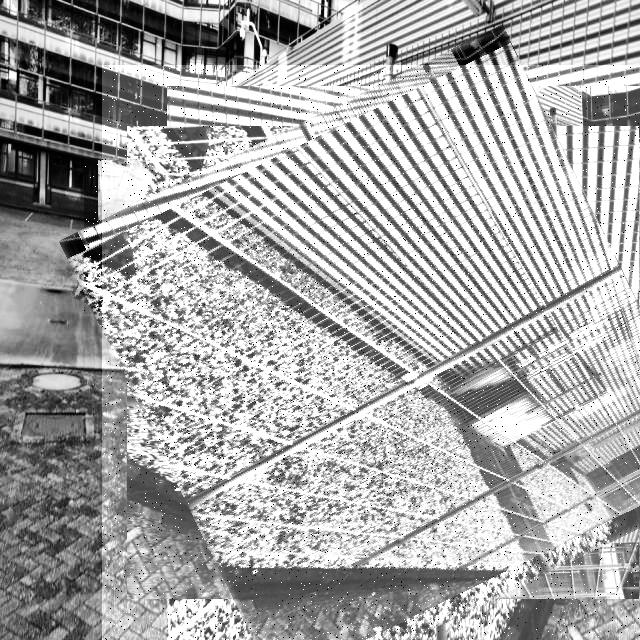fences: (102, 65, 640, 640), (84, 158, 159, 314)
